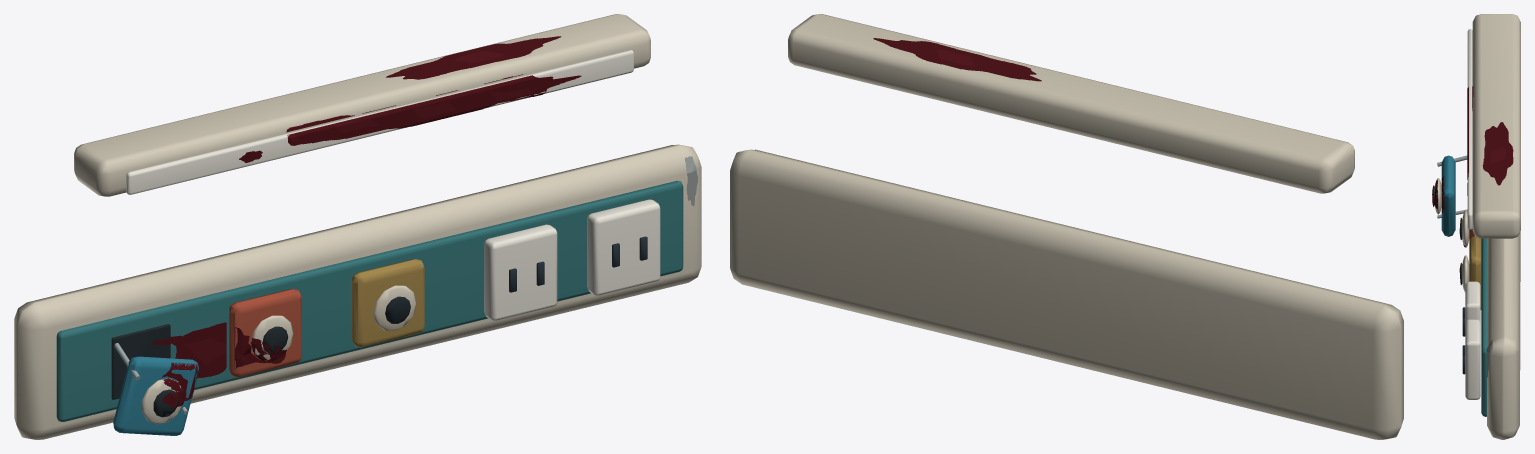
File: service_headwall.glb
3 views of the same model, side by side, from view 1: azimuth 30°, elevation 25°; view 2: azimuth 150°, elevation 25°; view 3: azimuth 270°, elevation 25° (orthographic). The views are drawn at different scales.
Parts seen in each view (by area): view 1: Outbreak_ServiceHeadwall_Static; view 2: Outbreak_ServiceHeadwall_Static; view 3: Outbreak_ServiceHeadwall_Static.
Boxes of the visible parts, bbox=[...] form: Outbreak_ServiceHeadwall_Static: bbox=[14, 14, 701, 439]; Outbreak_ServiceHeadwall_Static: bbox=[730, 14, 1403, 439]; Outbreak_ServiceHeadwall_Static: bbox=[1432, 14, 1520, 439].
Size of the model in its own units: 1.72 by 0.6707 by 0.258.
